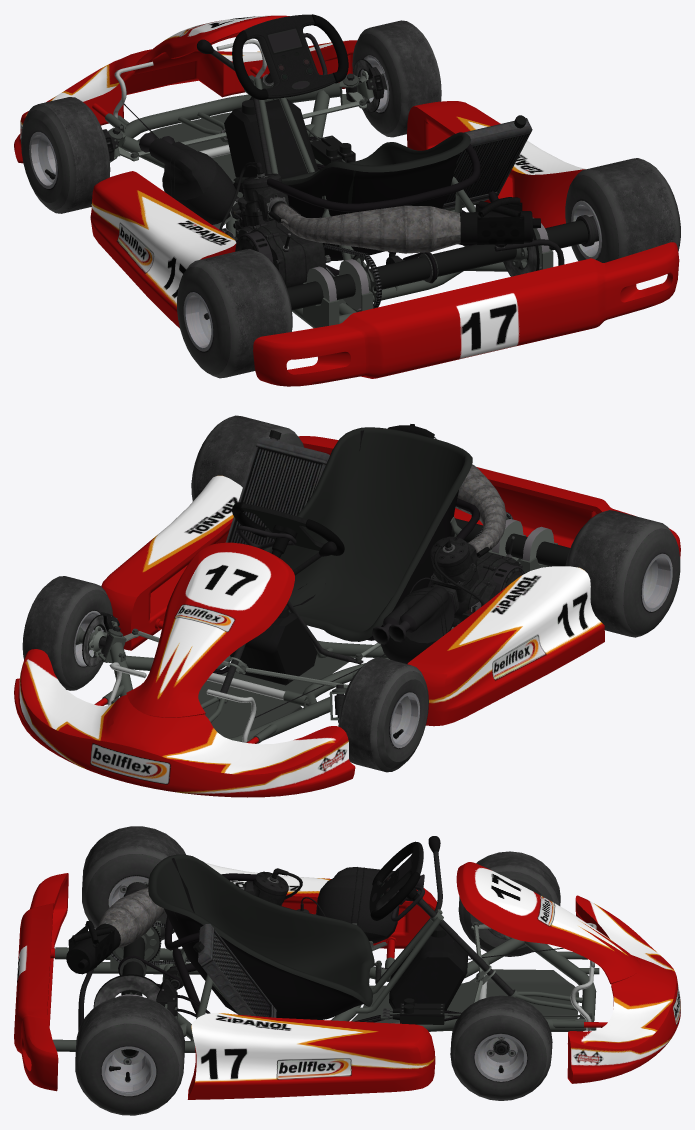
File: Kart.fbx
3 renders of one model, top to bottom at view 1: azimuth 30°, elevation 25°; view 2: azimuth 150°, elevation 25°; view 3: azimuth 270°, elevation 25°, orthographic. The views are drawn at different scales.
Visible parts, largest first — view 1: Kuzov, RL_Wheel, RL_Wheel.001, FL_Wheel, FR_Wheel; view 2: Kuzov, RL_Wheel, FL_Wheel, FR_Wheel, RL_Wheel.001; view 3: Kuzov, RL_Wheel.001, FR_Wheel, RL_Wheel, FL_Wheel.
Boxes of the visible parts, left/top/right/bottom form: Kuzov: left=14, top=14, right=679, bottom=386; RL_Wheel: left=177, top=249, right=292, bottom=378; RL_Wheel.001: left=565, top=158, right=680, bottom=262; FL_Wheel: left=21, top=97, right=110, bottom=213; FR_Wheel: left=352, top=20, right=441, bottom=137; Kuzov: left=14, top=424, right=680, bottom=797; RL_Wheel: left=565, top=510, right=680, bottom=637; FL_Wheel: left=338, top=657, right=428, bottom=772; FR_Wheel: left=22, top=576, right=112, bottom=690; RL_Wheel.001: left=191, top=415, right=303, bottom=501; Kuzov: left=14, top=836, right=680, bottom=1099; RL_Wheel.001: left=75, top=995, right=184, bottom=1115; FR_Wheel: left=450, top=995, right=552, bottom=1100; RL_Wheel: left=82, top=826, right=185, bottom=940; FL_Wheel: left=458, top=851, right=560, bottom=956.
Bounding box in the file's own units: 337 × 131 × 471.
